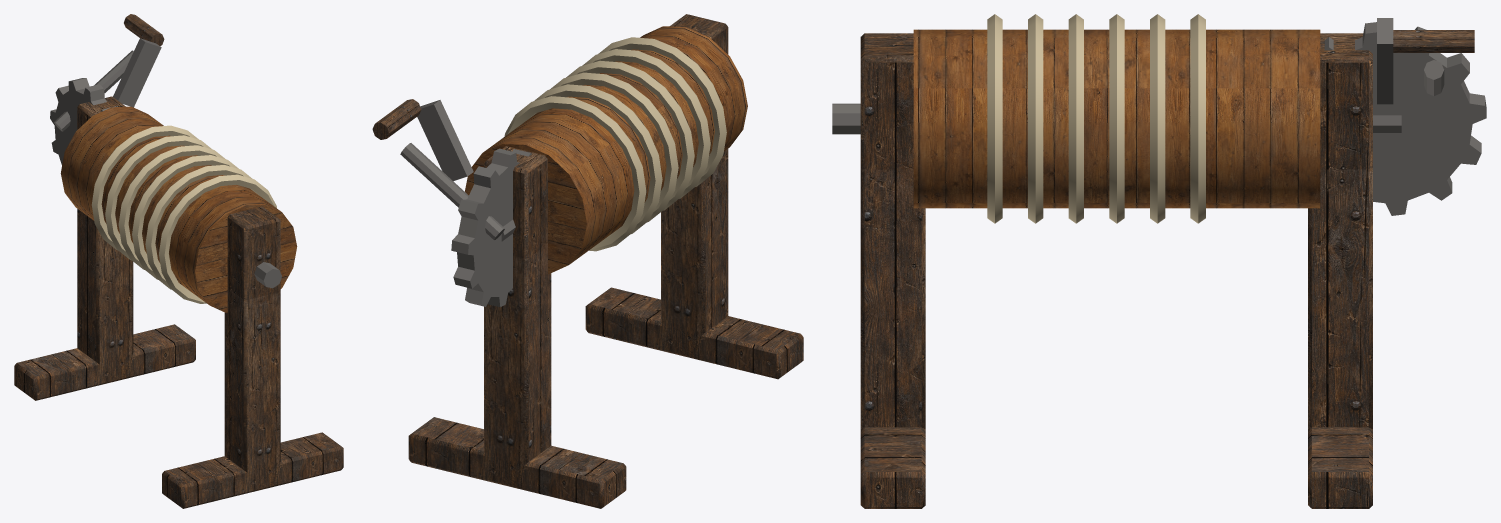
Rendered from winch-v01.glb.
3 views of the same model, side by side, from view 1: azimuth 30°, elevation 25°; view 2: azimuth 150°, elevation 25°; view 3: azimuth 270°, elevation 25° (orthographic). The views are drawn at different scales.
Visible parts, largest first — view 1: winch; view 2: winch; view 3: winch.
Part boxes in pixels (<box>): winch: <box>14,14,343,508</box>; winch: <box>372,14,803,508</box>; winch: <box>832,14,1486,508</box>.
Size of the model in its own units: 0.7 by 1.28 by 1.61.
Materials: 4 (2 with a texture image).
